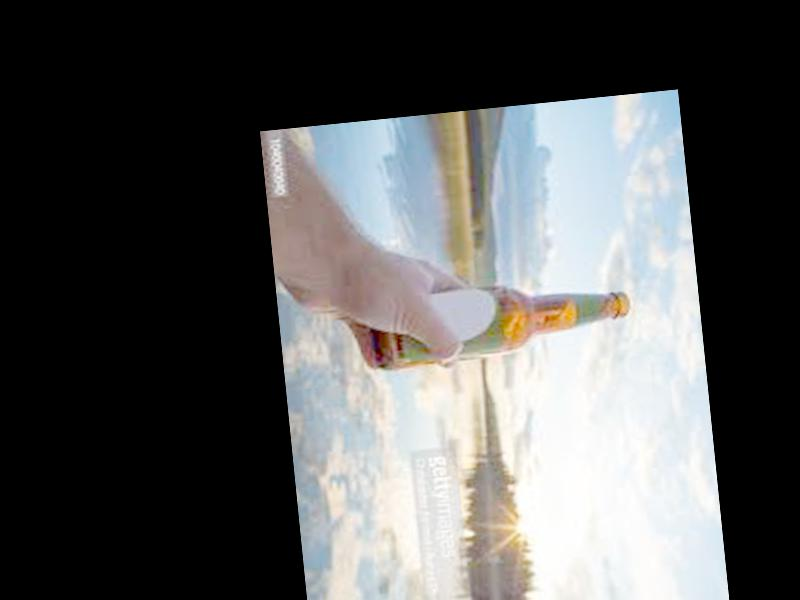Beer: (370, 270, 636, 375)
